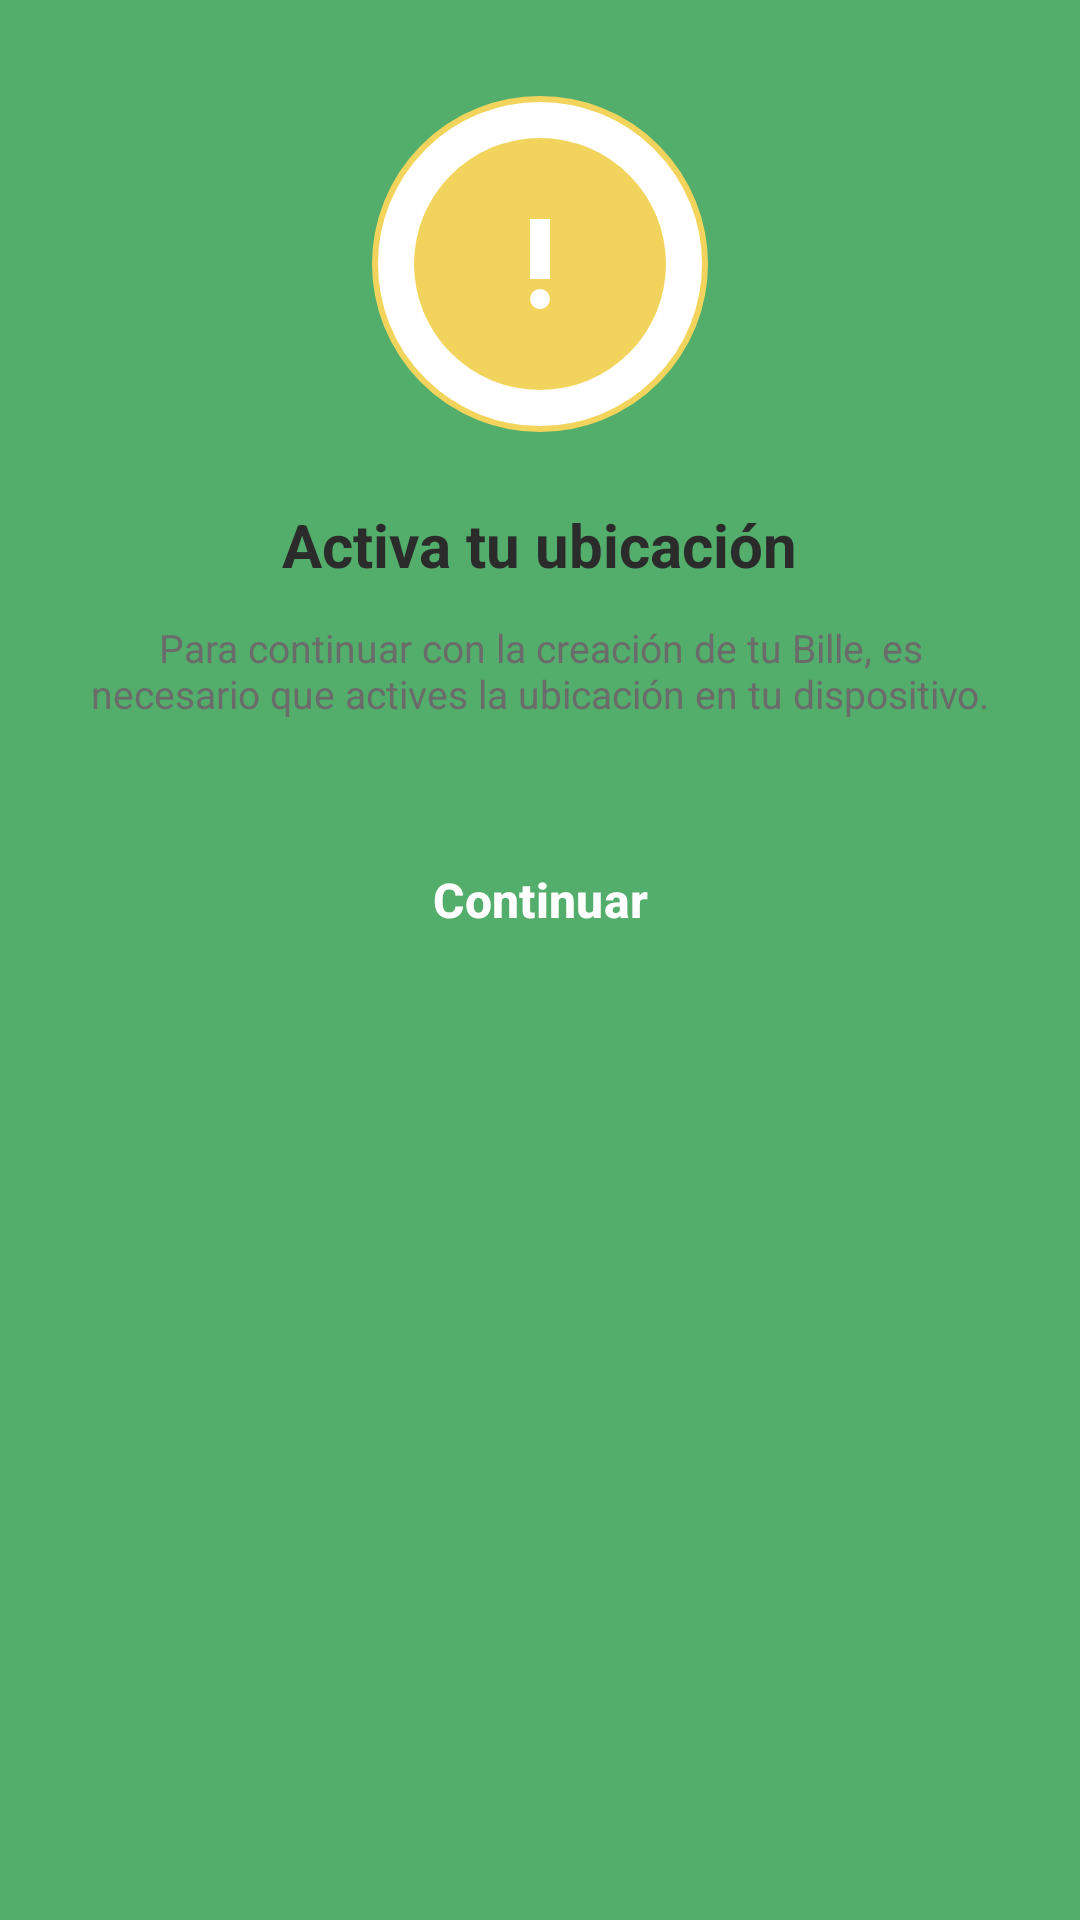

Screen size 1080×1920. Icon name, then its box in pixels as BBox(x1, y1, x2, y2):
priority high: BBox(414, 138, 666, 390)
